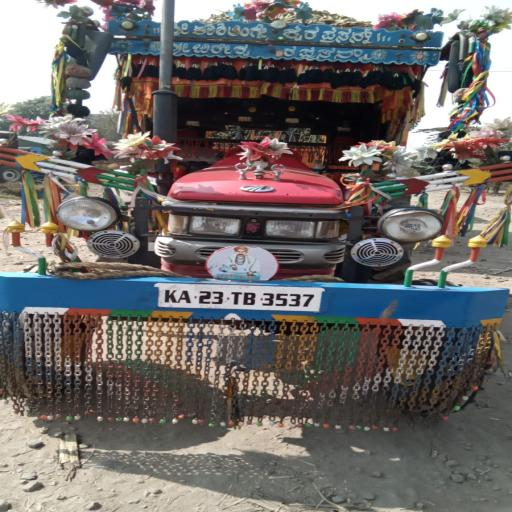number_plate: (144, 280, 342, 314)
